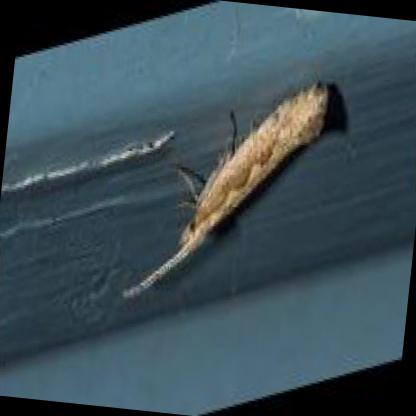plutella: (123, 78, 326, 301)
